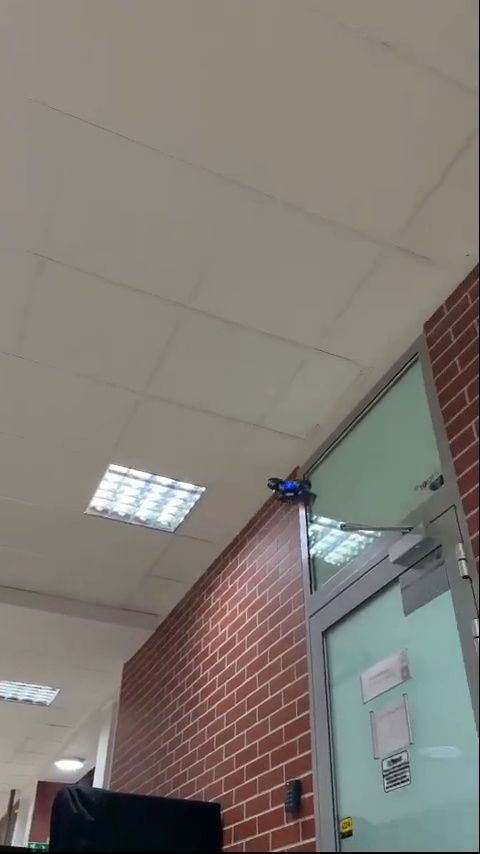drone: (260, 472, 321, 502)
